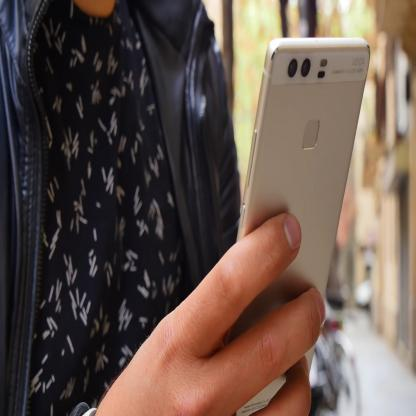smartphone: (220, 34, 371, 416)
